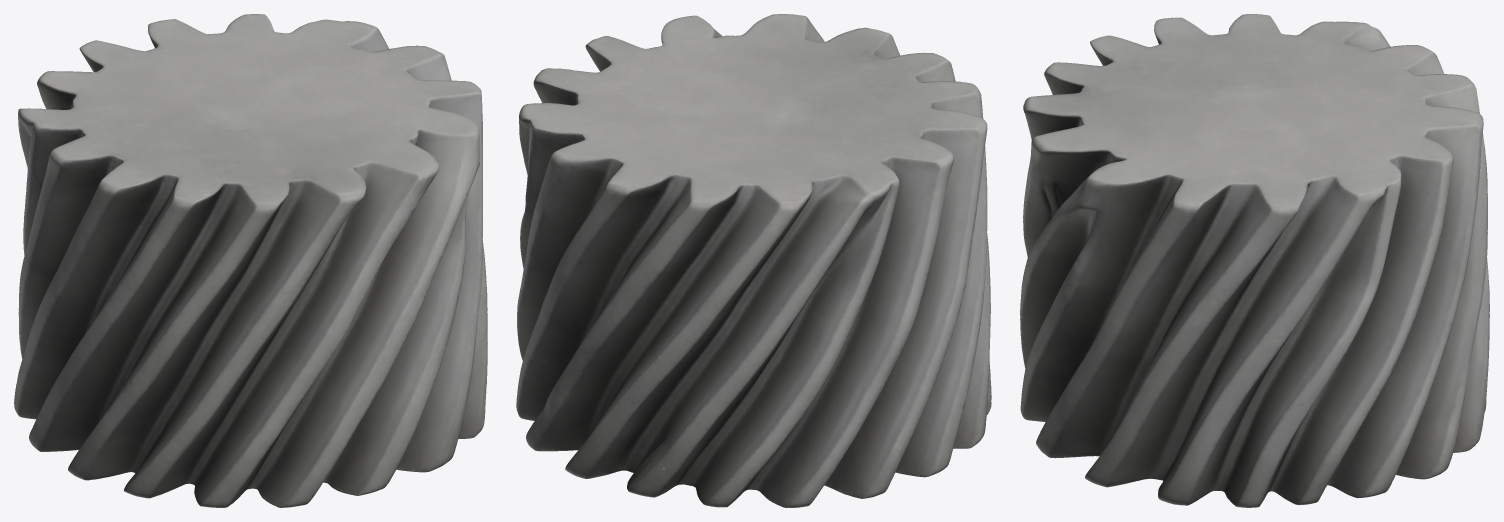
File: 06_gear_vanilla.glb
The picture shows the model from 3 angles, left to right: view 1: azimuth 30°, elevation 25°; view 2: azimuth 150°, elevation 25°; view 3: azimuth 270°, elevation 25°; orthographic projection.
Parts seen in each view (by area): view 1: world; view 2: world; view 3: world.
Boxes of the visible parts, x1,y1,x2,y2 form: world: (14, 14, 487, 507); world: (516, 14, 991, 507); world: (1020, 14, 1489, 507).
Bounding box in the file's own units: 1 × 0.7128 × 0.9997.
1 material, 1 textured.
